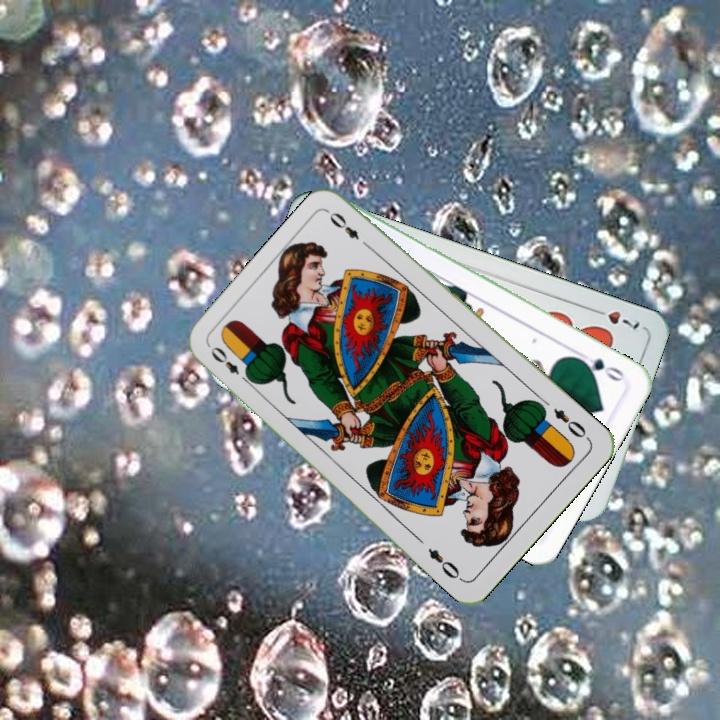EO: (206, 342, 254, 387), (549, 404, 589, 441)
GO: (572, 353, 627, 384)
H7: (587, 304, 642, 334)
